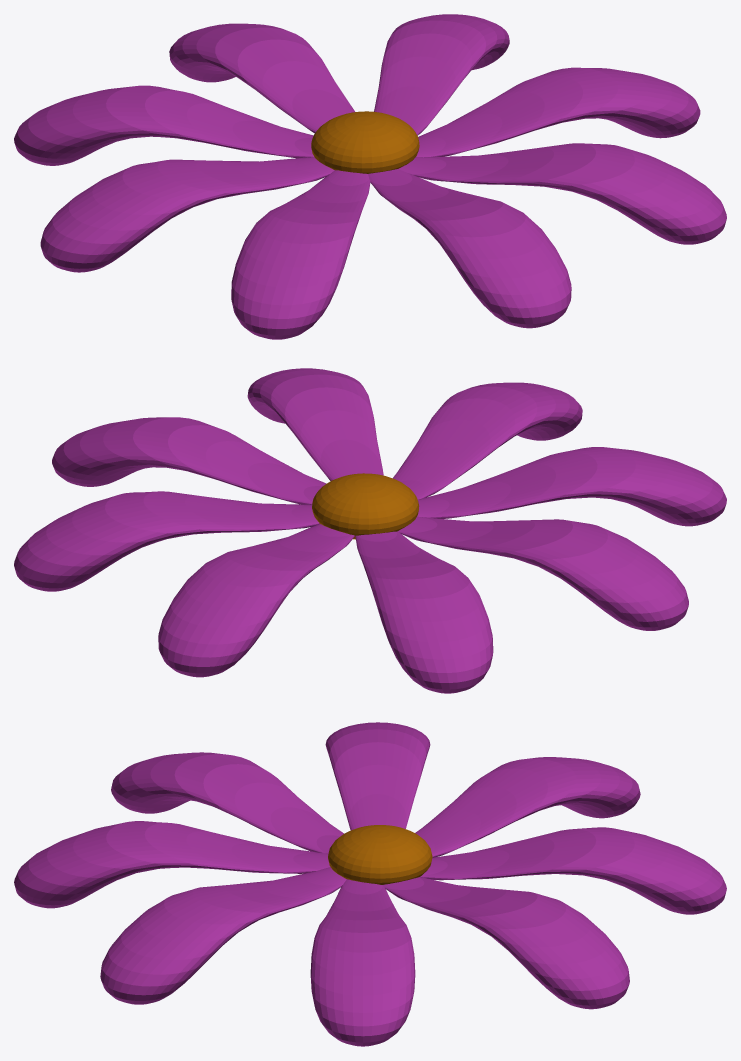
The model's file is flower.obj.
3 views of the same model, one above another, from view 1: azimuth 30°, elevation 25°; view 2: azimuth 150°, elevation 25°; view 3: azimuth 270°, elevation 25° (orthographic). The views are drawn at different scales.
Visible parts, largest first — view 1: Sphere.008_Sphere.012, Sphere.001_Sphere.002; view 2: Sphere.008_Sphere.012, Sphere.001_Sphere.002; view 3: Sphere.008_Sphere.012, Sphere.001_Sphere.002.
Part boxes in pixels (<box>): Sphere.008_Sphere.012: <box>14,14,726,339</box>; Sphere.001_Sphere.002: <box>311,111,419,173</box>; Sphere.008_Sphere.012: <box>14,368,726,693</box>; Sphere.001_Sphere.002: <box>312,473,419,539</box>; Sphere.008_Sphere.012: <box>14,722,726,1046</box>; Sphere.001_Sphere.002: <box>328,825,432,884</box>.
Bounding box in the file's own units: 13.61 × 1.55 × 13.61.
